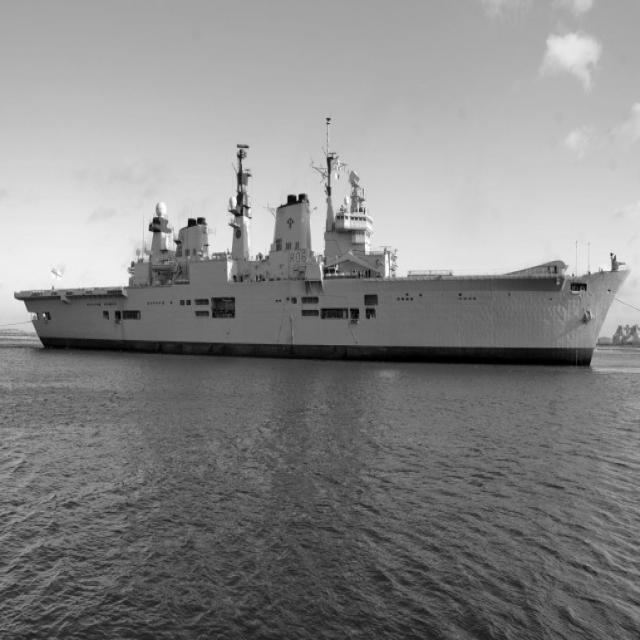Portanaves: (11, 110, 634, 370)
